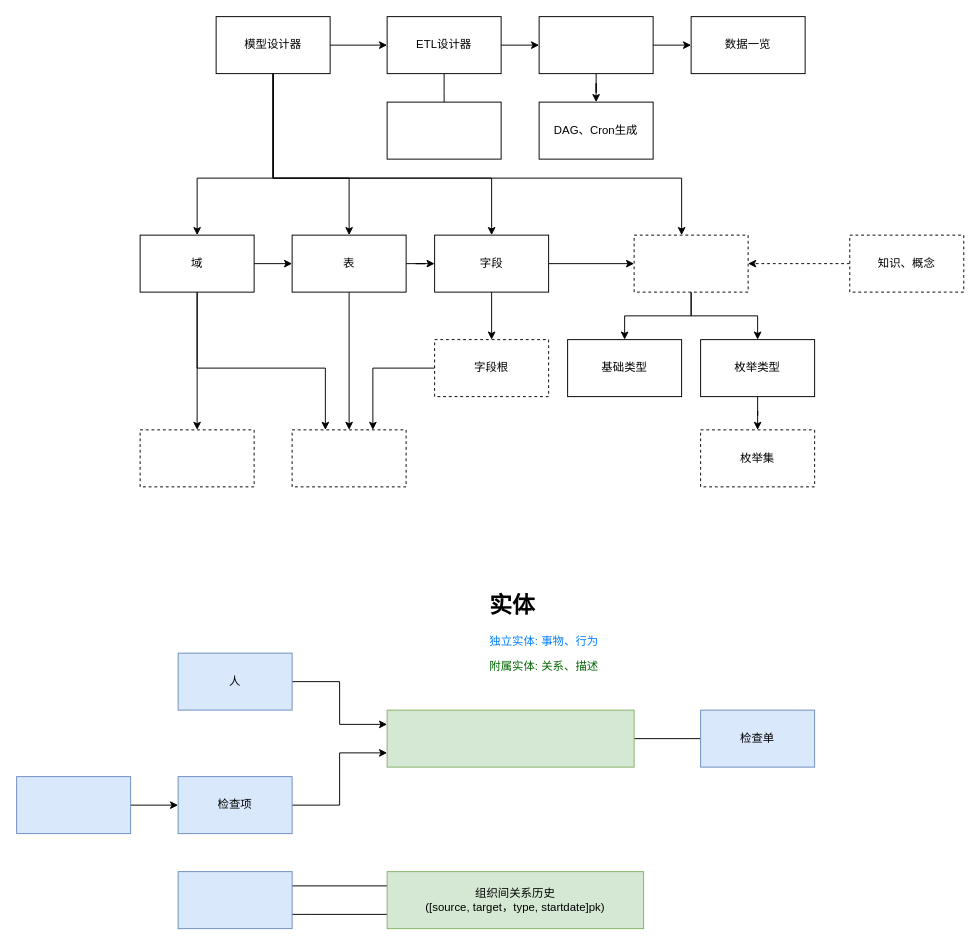
Image size: 980x945. Some labels were removed from this diagram. Here are the shapes that lost their labels. From the top down, the centre of each, then its label:
[595,45]: 调度设计器
[443,130]: SQL生成
[690,263]: 类型
[196,458]: 视图
[348,458]: 词根字典
[510,738]: 检查历史 [personid, checkitemid, startdate]pk
[73,805]: 检查
[234,900]: 组织
